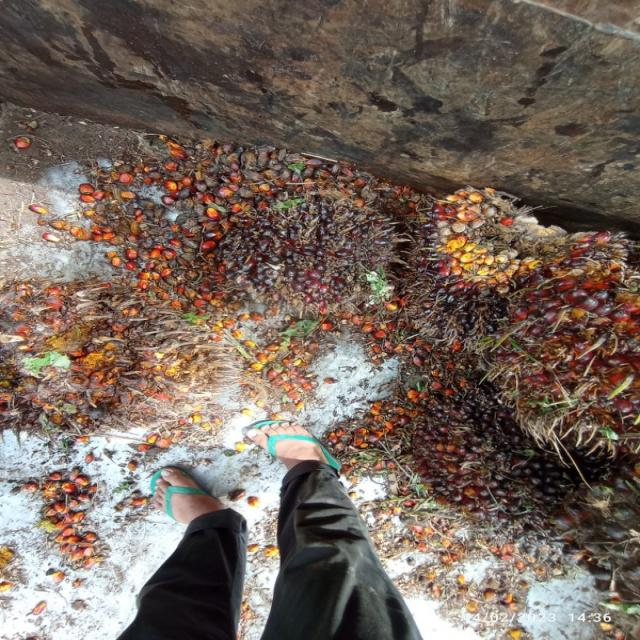fraksi 00: (399, 180, 565, 347), (209, 189, 396, 306)
fraksi 4: (0, 279, 167, 436)
